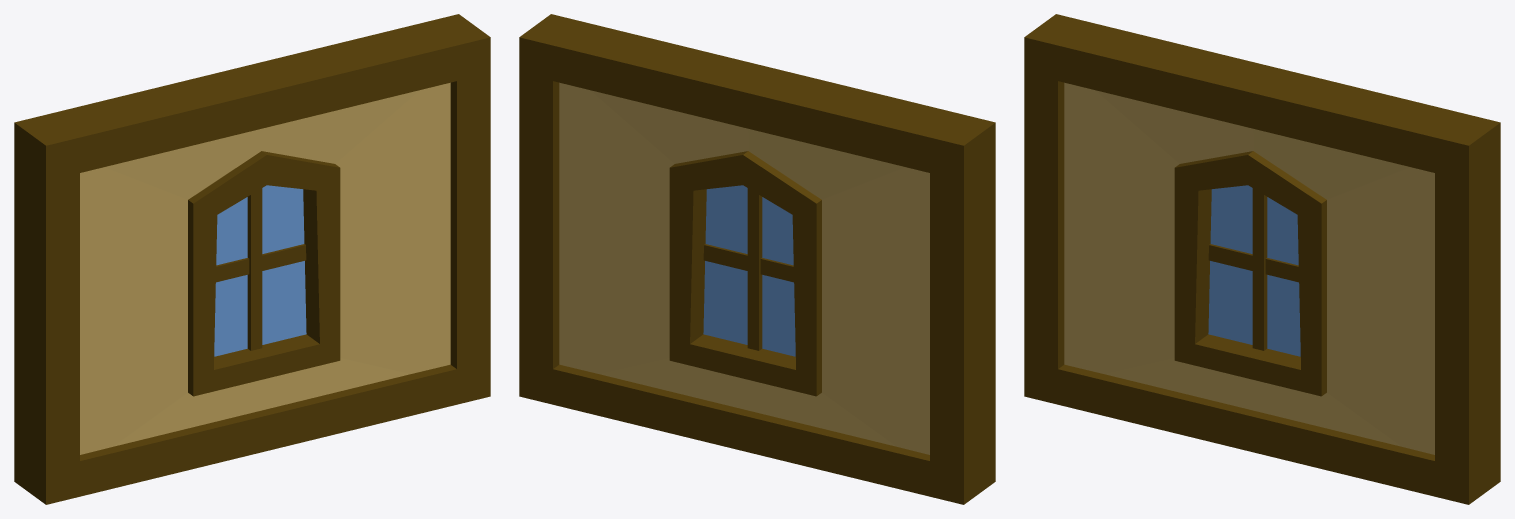
The model's file is Window02_topSmall.fbx.
The picture shows the model from 3 angles, left to right: view 1: azimuth 30°, elevation 25°; view 2: azimuth 150°, elevation 25°; view 3: azimuth 330°, elevation 25°; orthographic projection.
Visible parts, largest first — view 1: SmallWindow_02; view 2: SmallWindow_02; view 3: SmallWindow_02.
Boxes of the visible parts, x1=… form: SmallWindow_02: x1=14, y1=14, x2=490, y2=504; SmallWindow_02: x1=519, y1=14, x2=995, y2=504; SmallWindow_02: x1=1024, y1=14, x2=1500, y2=504.
Bounding box in the file's own units: 261 × 201 × 32.4.
